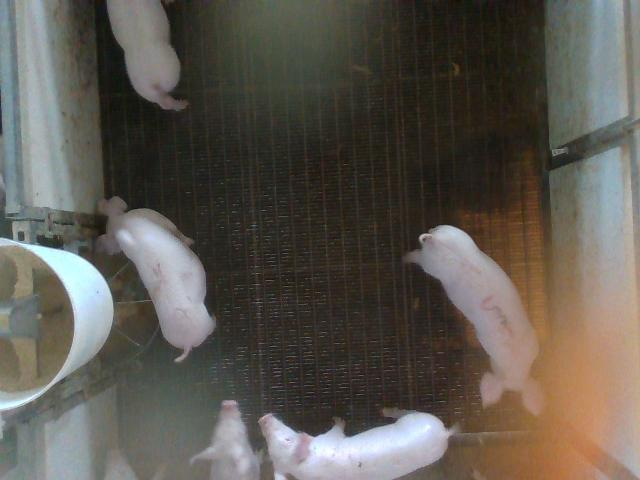pig-3: (404, 225, 544, 414)
